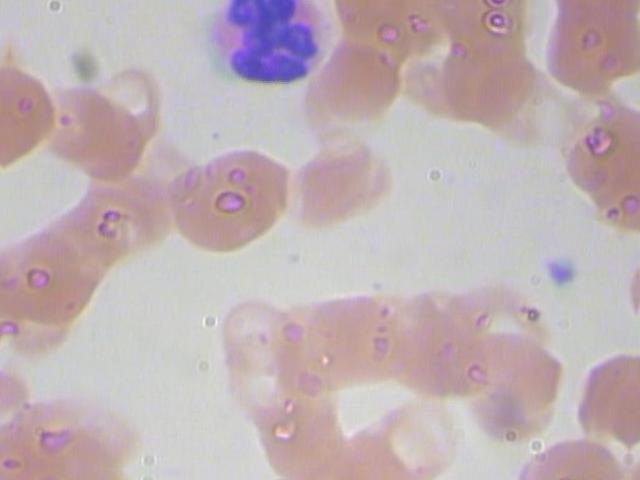RBC: (166, 135, 304, 257), (194, 0, 340, 92), (380, 297, 499, 407), (291, 27, 409, 137), (282, 127, 400, 236), (456, 320, 574, 429), (5, 382, 147, 471), (304, 283, 423, 388), (432, 27, 544, 130), (0, 222, 108, 326), (535, 11, 640, 107), (365, 393, 475, 480), (557, 95, 640, 205), (75, 96, 167, 192), (34, 75, 126, 170), (88, 160, 180, 255), (51, 175, 143, 270), (30, 194, 122, 289), (217, 291, 299, 381), (312, 417, 412, 480), (518, 427, 629, 480), (538, 248, 592, 294)
WBC: (539, 0, 640, 15)
